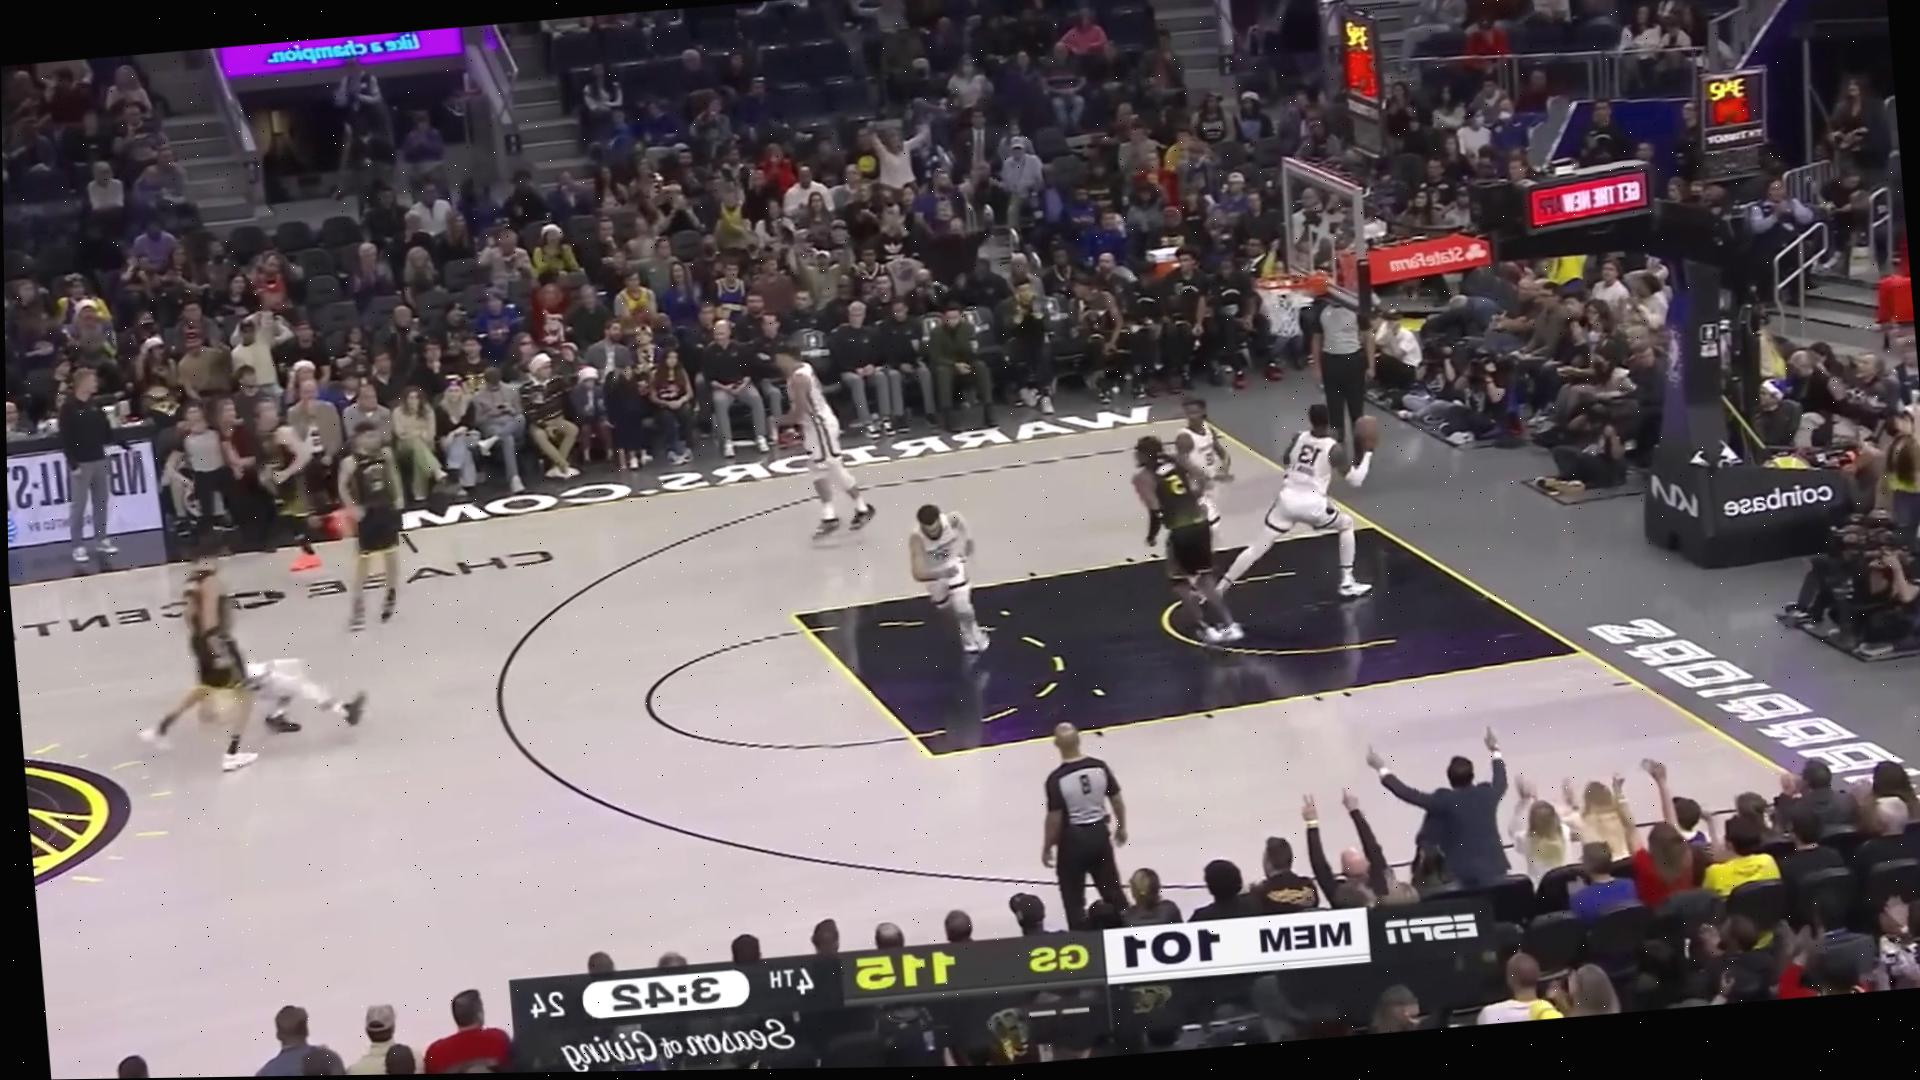no_foul: (1093, 378, 1406, 651)
